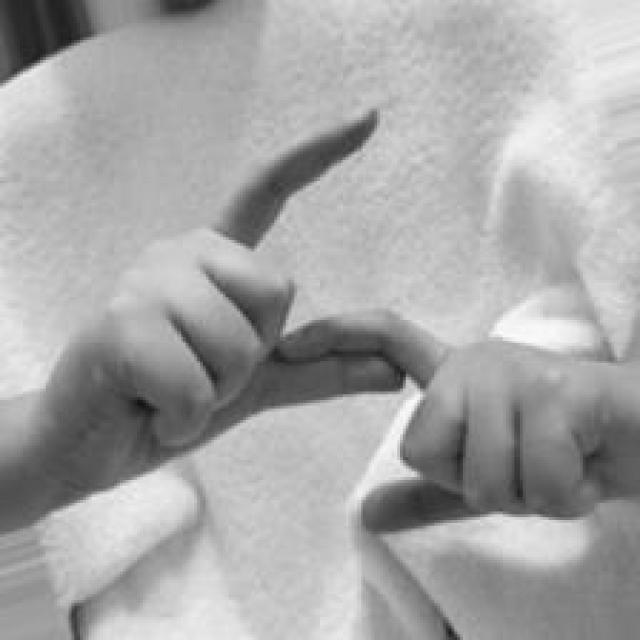S: (43, 101, 640, 544)
